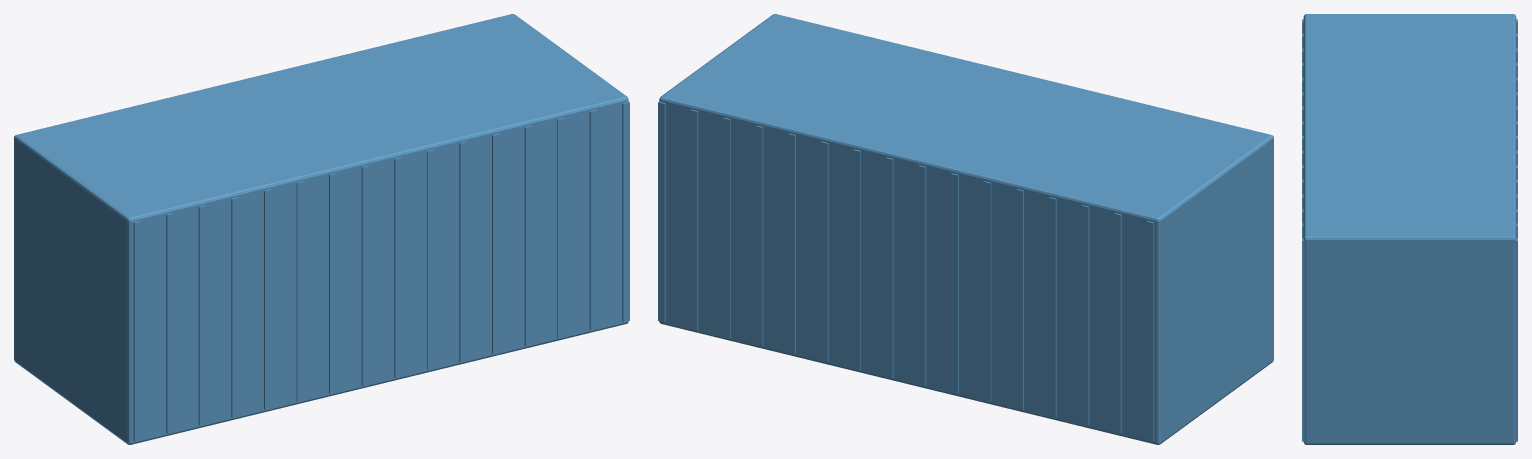
Rendered from container_1.glb.
3 views of the same model, side by side, from view 1: azimuth 30°, elevation 25°; view 2: azimuth 150°, elevation 25°; view 3: azimuth 270°, elevation 25° (orthographic). The views are drawn at different scales.
Visible parts, largest first — view 1: container_1; view 2: container_1; view 3: container_1.
Part boxes in pixels (box(x1,y1,x2,y2)): container_1: box(14, 14, 629, 444); container_1: box(658, 14, 1273, 444); container_1: box(1302, 14, 1517, 444).
Bounding box in the file's own units: 6 × 2.6 × 2.44.
